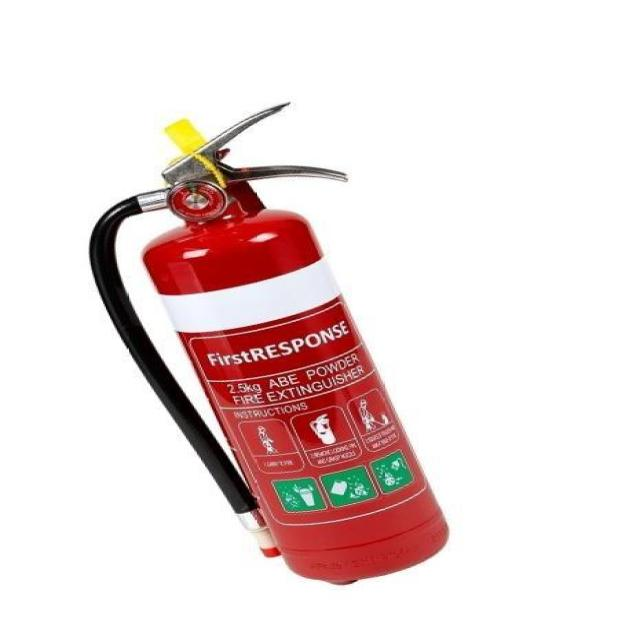fire_extinguisher: (82, 95, 456, 588)
